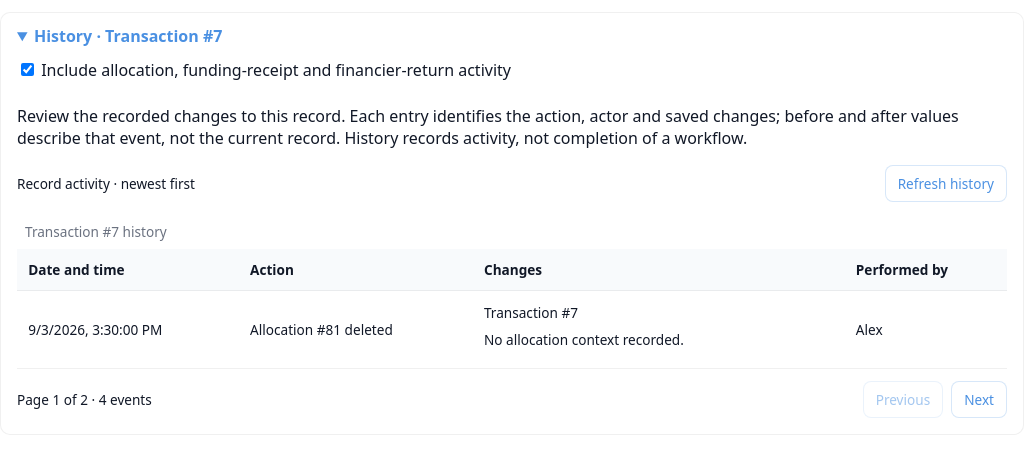
transaction history aggregates allocations once and can return to exact header history
Expected: the text "Allocation #81 deleted" is shown, [239,291,473,368]
Expected: the number of rows is 2, [17,249,1007,291]; [17,291,1007,368]
Click the checkbox labelled "Include allocation, funding-receipt and financier-return activity": (28, 70) [21,63,34,76]
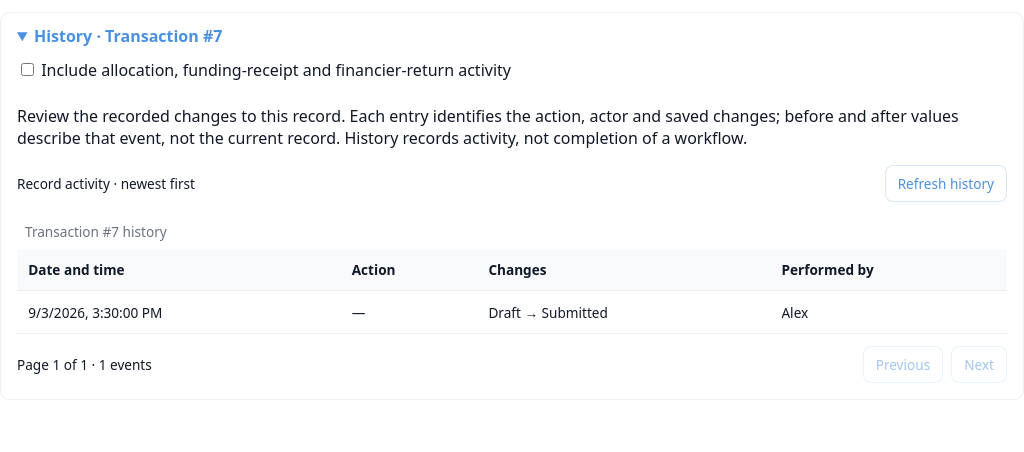
Expected: the text "Draft → Submitted" is shown, [477,291,770,333]
Expected: the text "Allocation #81 deleted" is gone
